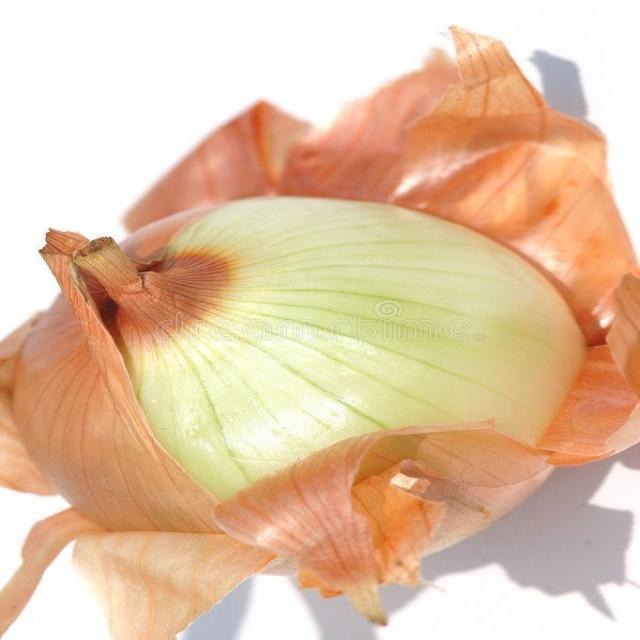Onion: (0, 23, 640, 640), (7, 195, 584, 532)
